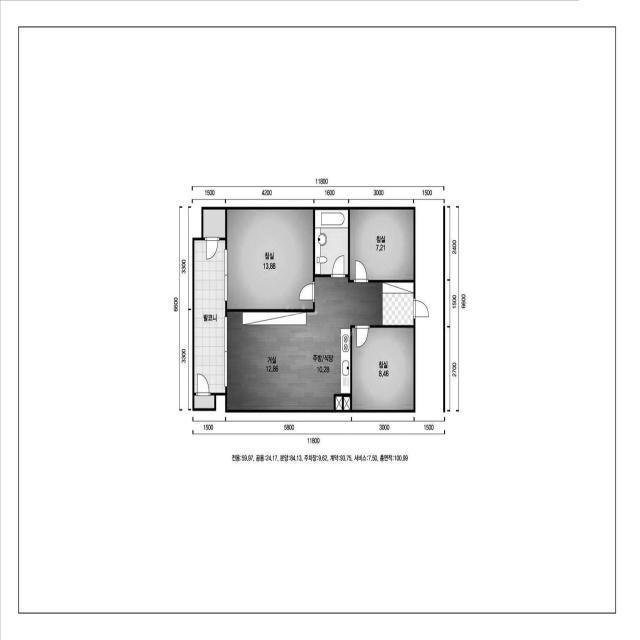space_balconi: (194, 240, 225, 393)
space_bedroom: (227, 210, 313, 309), (352, 327, 413, 410), (350, 210, 413, 280)
space_front: (383, 283, 413, 325)
space_kitchen: (315, 325, 351, 410)
space_living_room: (227, 277, 383, 410)
space_other: (203, 210, 225, 238), (194, 395, 214, 408), (336, 396, 342, 410), (344, 397, 350, 410)
space_toilet: (315, 210, 348, 274)
